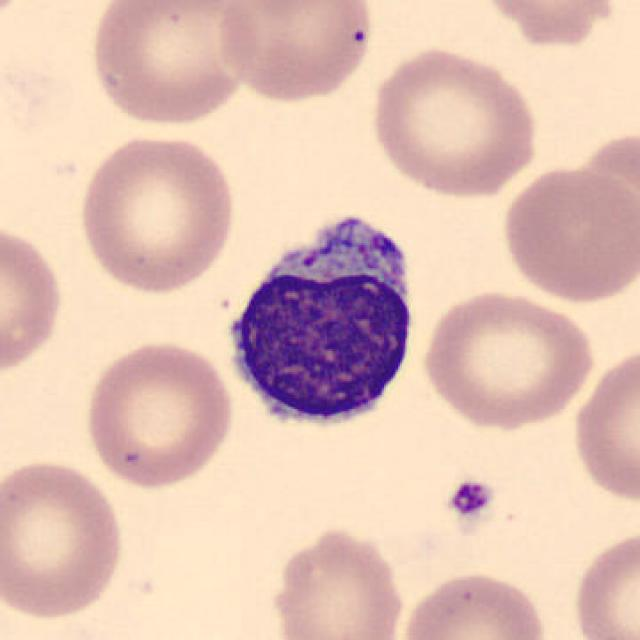Lymphocyte: (215, 197, 427, 441)
Platelets: (444, 476, 496, 522)
RBC: (73, 130, 240, 298), (364, 44, 542, 199), (416, 286, 599, 432), (80, 337, 236, 492), (86, 0, 260, 129), (0, 453, 128, 624), (498, 162, 636, 307), (213, 0, 377, 106), (267, 522, 409, 640), (569, 340, 638, 510), (397, 566, 551, 640), (0, 217, 68, 381), (569, 525, 640, 640), (469, 0, 624, 51), (0, 0, 34, 39)
